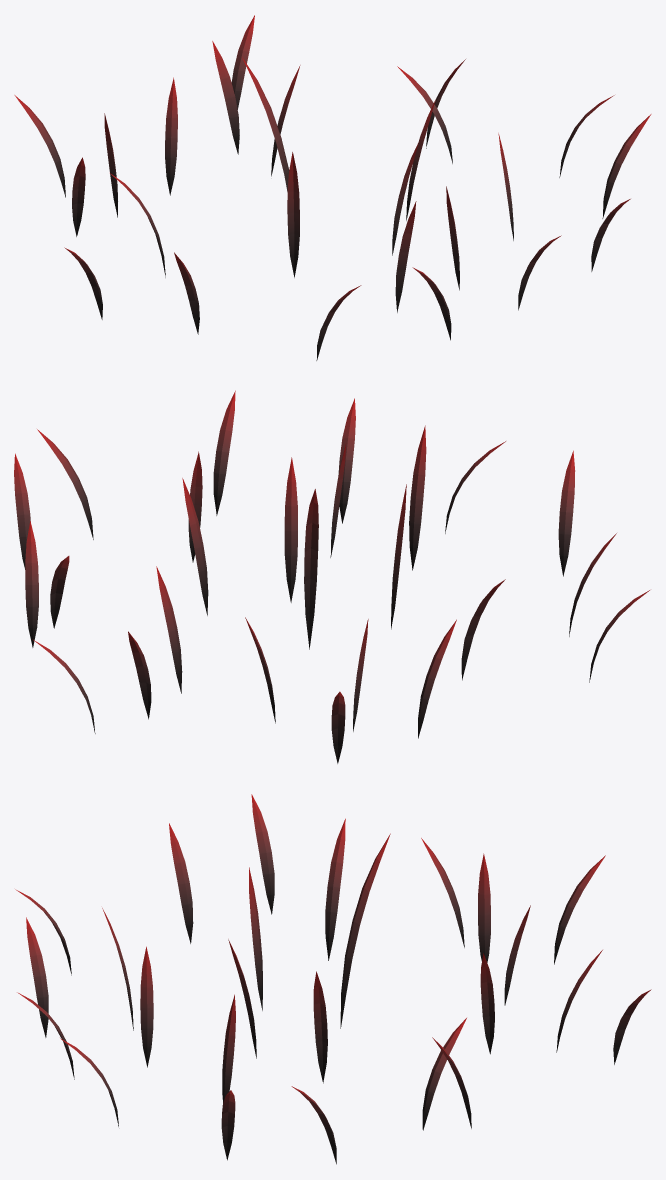
The model's file is patchyGrass.fbx.
3 renders of one model, top to bottom at view 1: azimuth 30°, elevation 25°; view 2: azimuth 150°, elevation 25°; view 3: azimuth 270°, elevation 25°, orthographic. The views are drawn at different scales.
Parts seen in each view (by area): view 1: grass; view 2: grass; view 3: grass.
Boxes of the visible parts, x1,y1,x2,y2 form: grass: [14, 15, 651, 360]; grass: [14, 390, 649, 763]; grass: [15, 794, 651, 1164].
Bounding box in the file's own units: 6.57 × 1.9 × 5.97.
